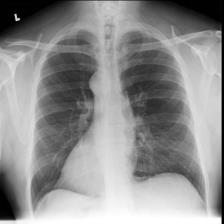normal: (22, 20, 212, 218)
